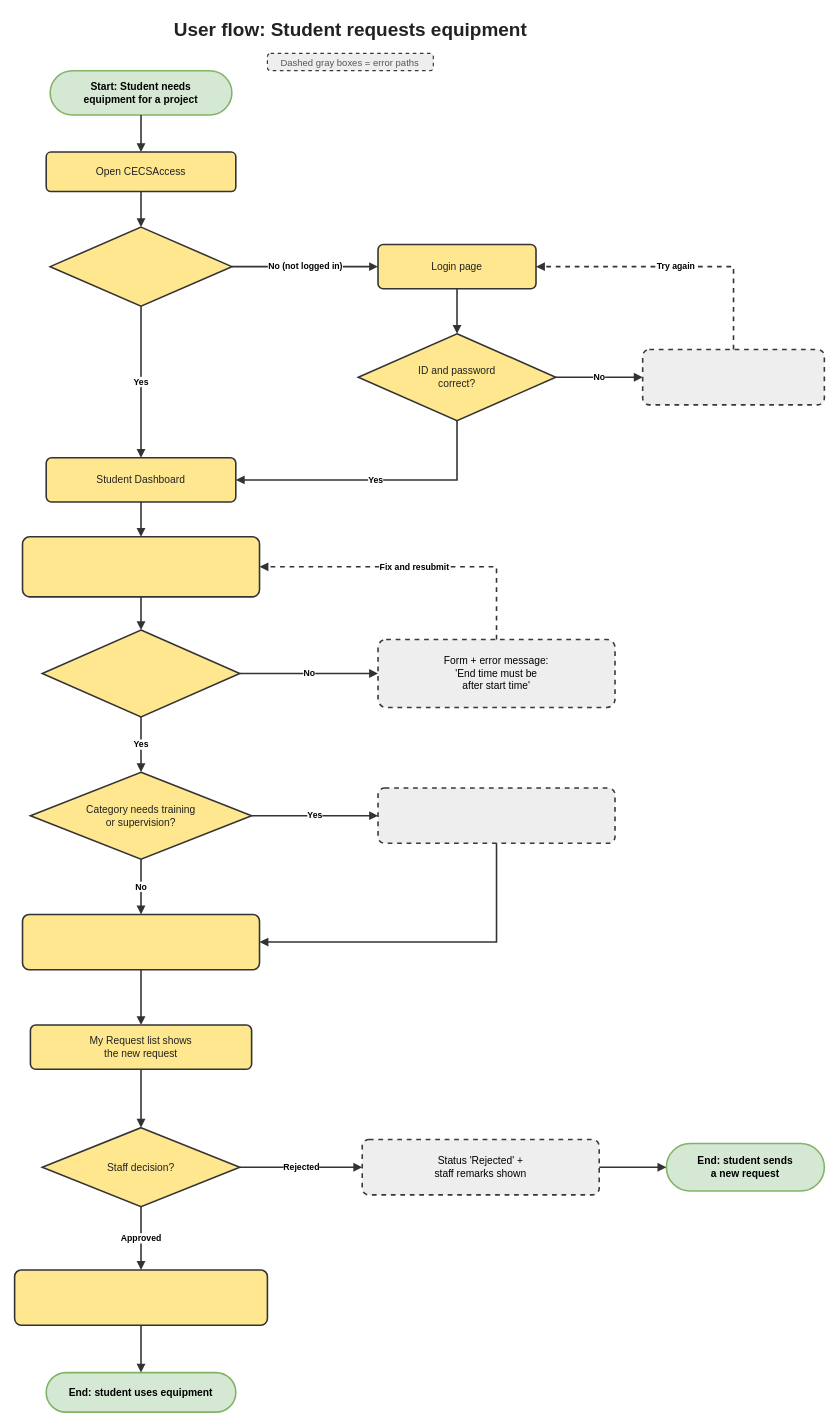
This 838x1426 diagram has some shape labels left out. Each missing label, with the box of its shape:
All fields valid?: (41, 629, 240, 717)
Logged in?: (49, 226, 232, 307)
Login page + error: 'Wrong ID or password': (641, 348, 825, 405)
Notice shown: a supervising staff member is required: (377, 787, 615, 844)
Request Equipment page: category, purpose, date, start and end time: (21, 536, 260, 597)
Request saved as Pending + 'Submitted' message: (21, 913, 260, 970)
Status 'Approved'; unit assigned and shown in My Usage: (13, 1269, 268, 1326)
